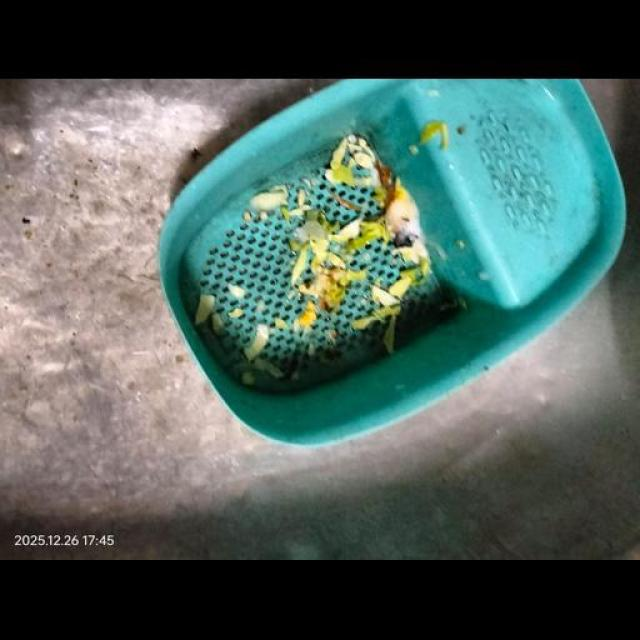organic: (193, 131, 448, 393), (347, 222, 389, 251), (420, 122, 448, 149), (292, 244, 308, 284), (389, 277, 414, 298), (383, 317, 396, 353), (282, 207, 291, 222)
